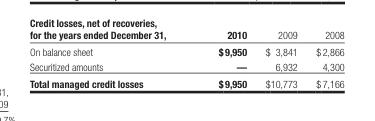table: (28, 28, 343, 89)
table column: (28, 28, 191, 89), (191, 28, 255, 89), (255, 28, 306, 89), (306, 28, 343, 89)
table column header: (28, 28, 343, 42)
table row: (28, 42, 343, 58), (28, 58, 343, 74), (28, 74, 343, 89), (28, 28, 343, 42)
